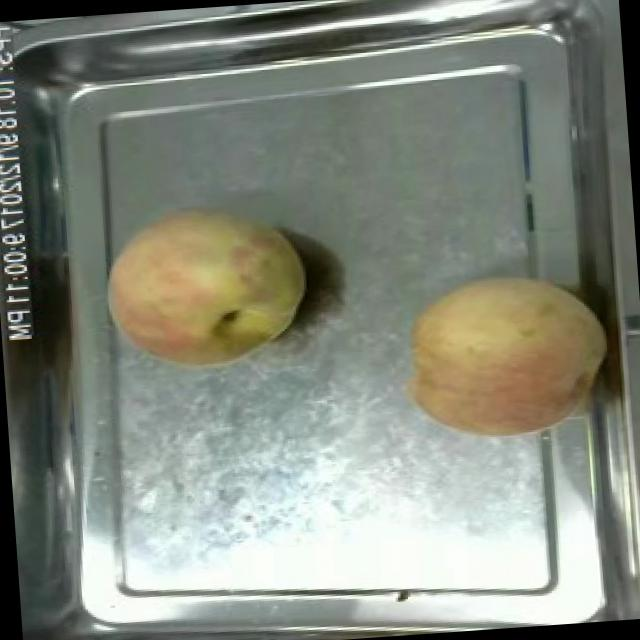Fruit: (386, 258, 620, 455), (93, 191, 316, 385)
